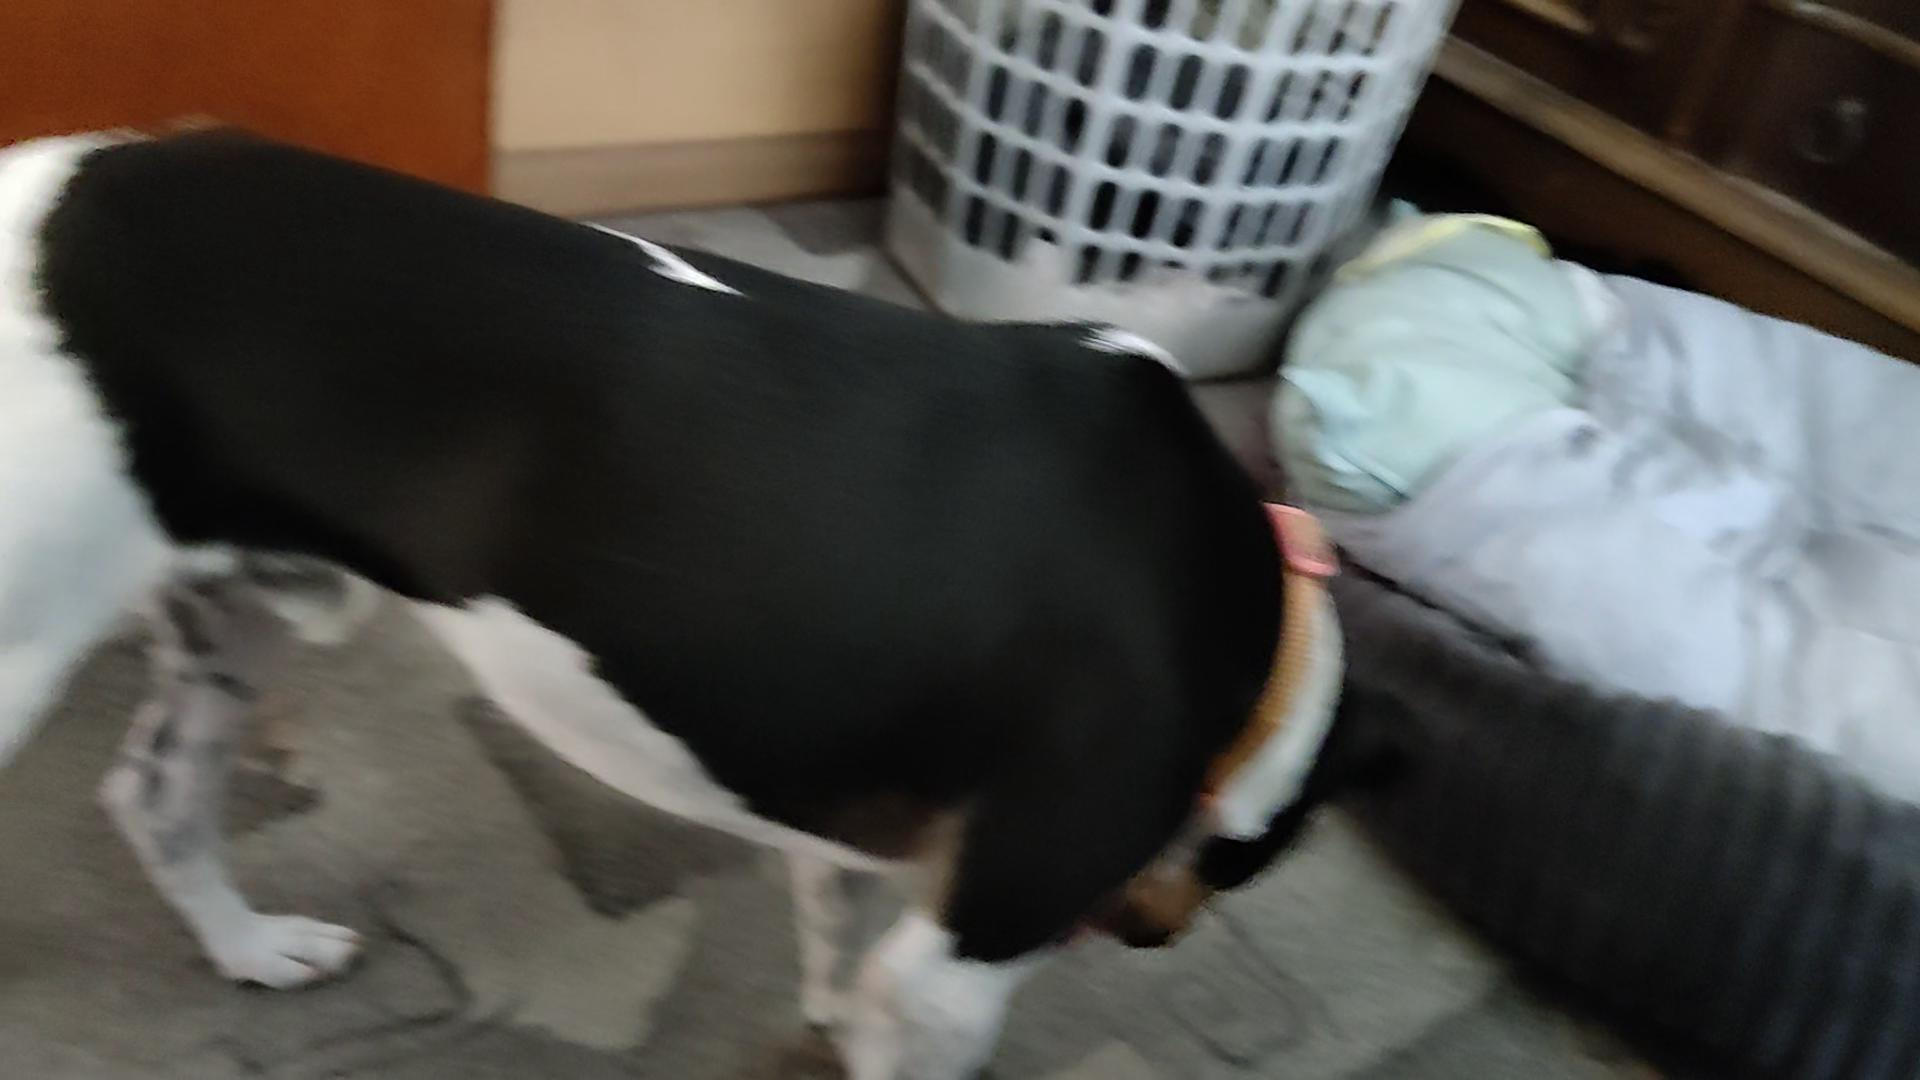Dog: (0, 108, 1441, 1079)
